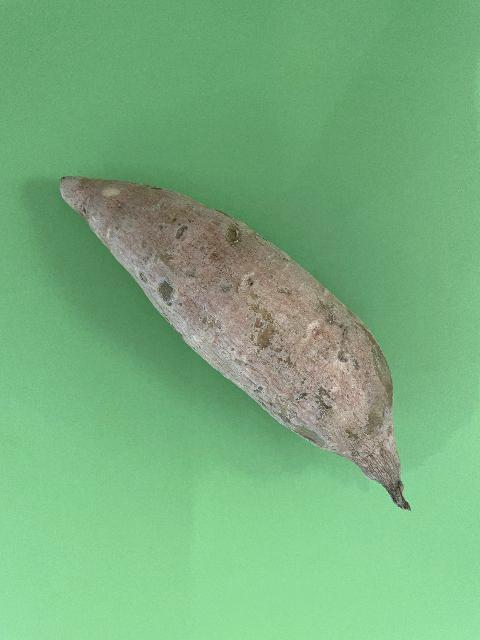sweetpotato: (60, 174, 410, 514)
